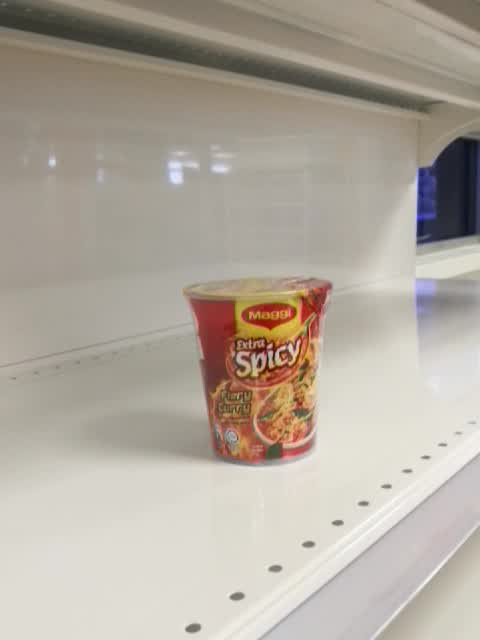maggi: (182, 274, 334, 467)
